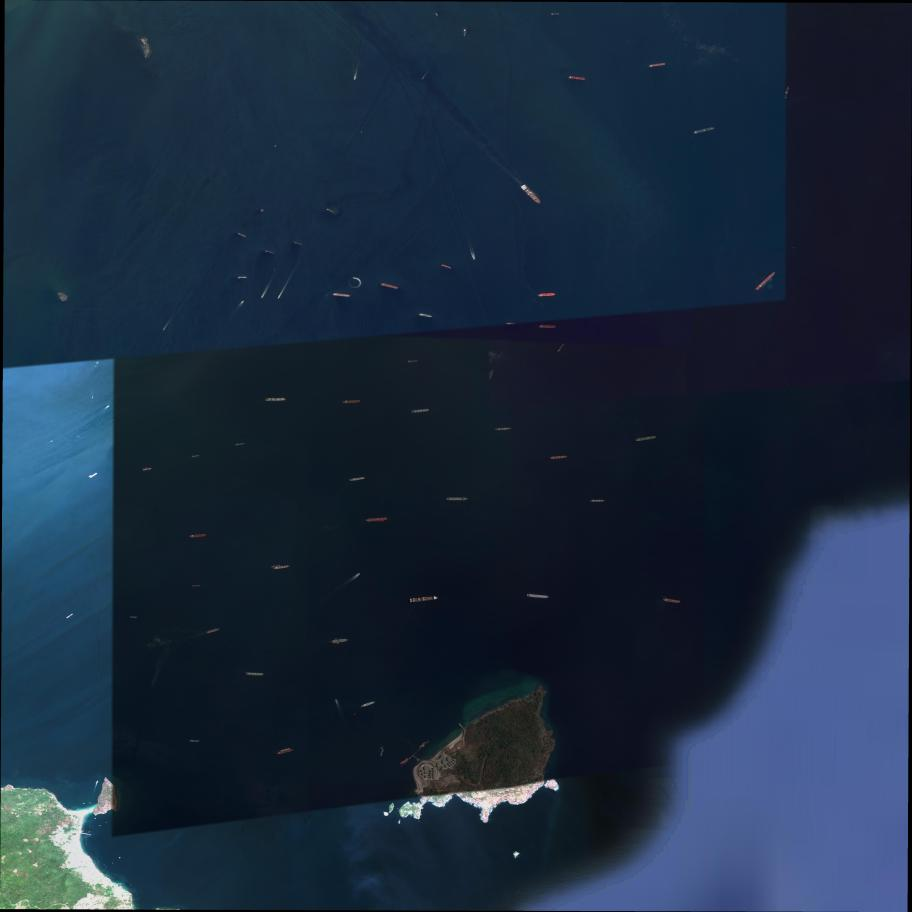ship: (520, 183, 542, 206), (755, 271, 776, 291), (409, 596, 438, 603), (693, 126, 715, 135), (634, 435, 657, 442), (380, 282, 399, 290), (411, 408, 430, 414), (662, 598, 681, 604), (366, 517, 388, 522), (527, 594, 549, 599), (330, 638, 348, 644), (648, 62, 666, 68), (276, 749, 293, 755), (361, 701, 375, 708), (332, 293, 351, 298), (245, 672, 264, 677), (537, 292, 556, 297), (567, 75, 586, 80), (205, 628, 220, 634), (188, 533, 206, 538), (446, 497, 468, 501), (550, 455, 567, 460), (557, 343, 565, 353), (784, 86, 790, 99), (342, 400, 361, 404), (494, 427, 512, 431), (418, 313, 432, 318), (273, 565, 290, 569), (539, 325, 556, 329), (349, 477, 365, 481), (418, 741, 426, 749), (265, 398, 286, 401), (89, 472, 98, 479), (237, 232, 247, 238), (442, 264, 452, 270), (489, 369, 494, 380), (327, 208, 335, 214), (66, 613, 74, 619), (407, 359, 418, 363), (280, 748, 291, 752), (264, 250, 275, 254), (271, 564, 281, 568), (235, 442, 245, 446), (402, 758, 408, 764), (380, 749, 384, 757), (589, 500, 605, 502), (506, 322, 516, 325), (191, 584, 201, 587), (143, 468, 152, 471), (191, 455, 200, 458), (463, 28, 466, 37), (399, 760, 404, 765), (294, 242, 302, 245), (189, 740, 200, 742), (435, 12, 439, 17), (142, 467, 148, 470), (551, 13, 560, 15), (357, 572, 361, 576), (106, 405, 110, 409), (130, 616, 137, 618), (335, 698, 338, 702), (277, 296, 280, 299), (238, 277, 247, 278), (261, 295, 264, 298), (422, 76, 424, 80), (50, 440, 53, 442), (163, 328, 165, 331), (473, 257, 475, 260), (354, 78, 356, 80), (242, 301, 244, 303), (78, 436, 80, 438), (92, 396, 93, 399)
storage-tank: (436, 763, 442, 768), (441, 760, 448, 764), (447, 757, 453, 761), (423, 767, 428, 771), (441, 766, 445, 770), (445, 764, 449, 768), (420, 769, 424, 772), (424, 775, 428, 778), (422, 773, 425, 776), (430, 769, 433, 772), (453, 762, 456, 765), (454, 759, 457, 762), (433, 767, 435, 770), (432, 773, 435, 775), (430, 774, 432, 777), (430, 777, 433, 779), (432, 775, 435, 777), (451, 764, 454, 766), (449, 765, 452, 767), (433, 770, 435, 772), (430, 773, 432, 775), (433, 777, 435, 779), (452, 761, 454, 763), (450, 762, 452, 764)
